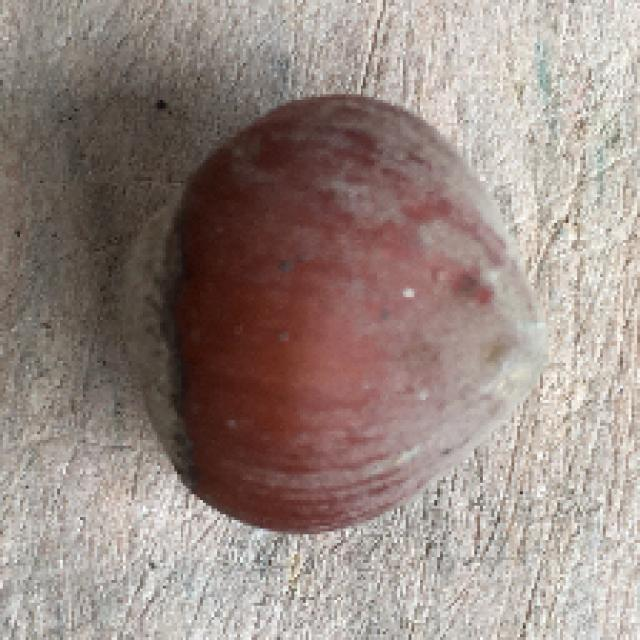qualityHazelnut: (112, 90, 540, 532)
